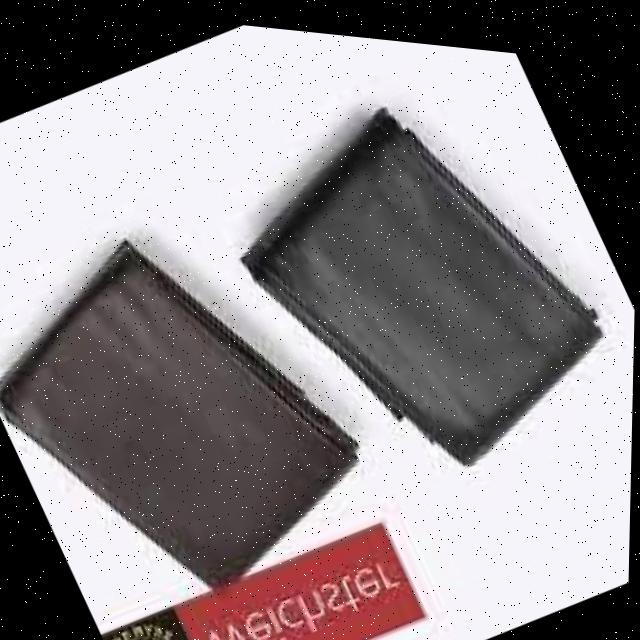cuzdan: (165, 14, 640, 543)
